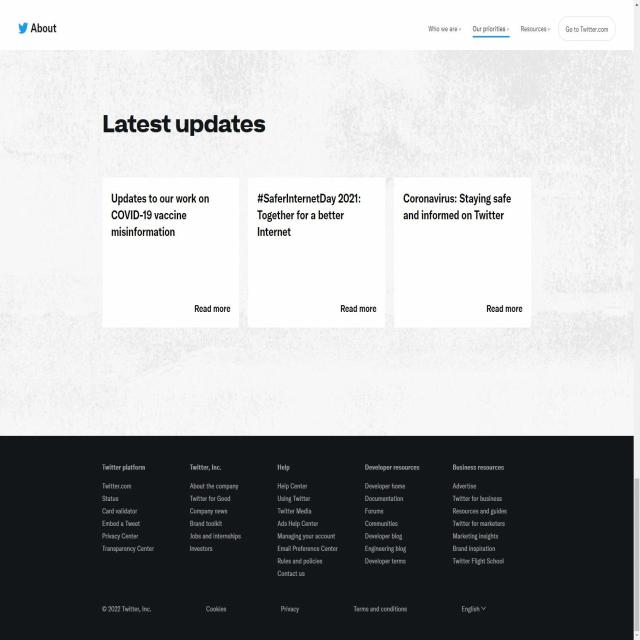button: (557, 16, 619, 41)
select: (425, 21, 464, 37), (518, 22, 552, 36)
